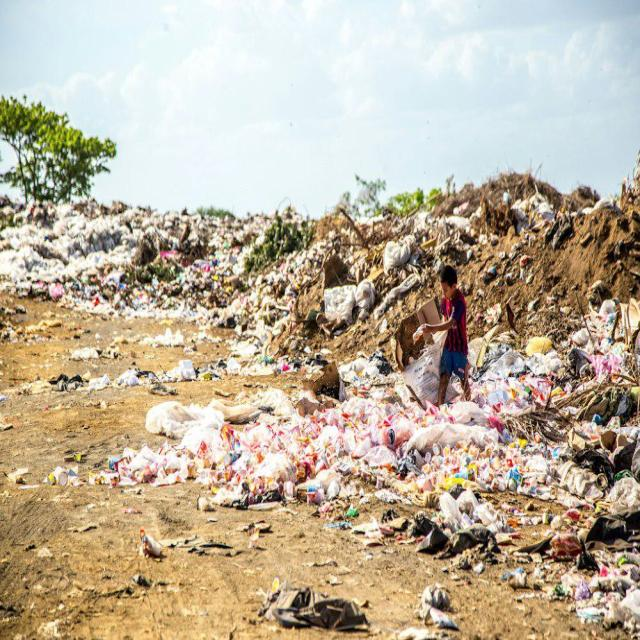trash: (151, 336, 609, 523), (10, 202, 242, 326)
